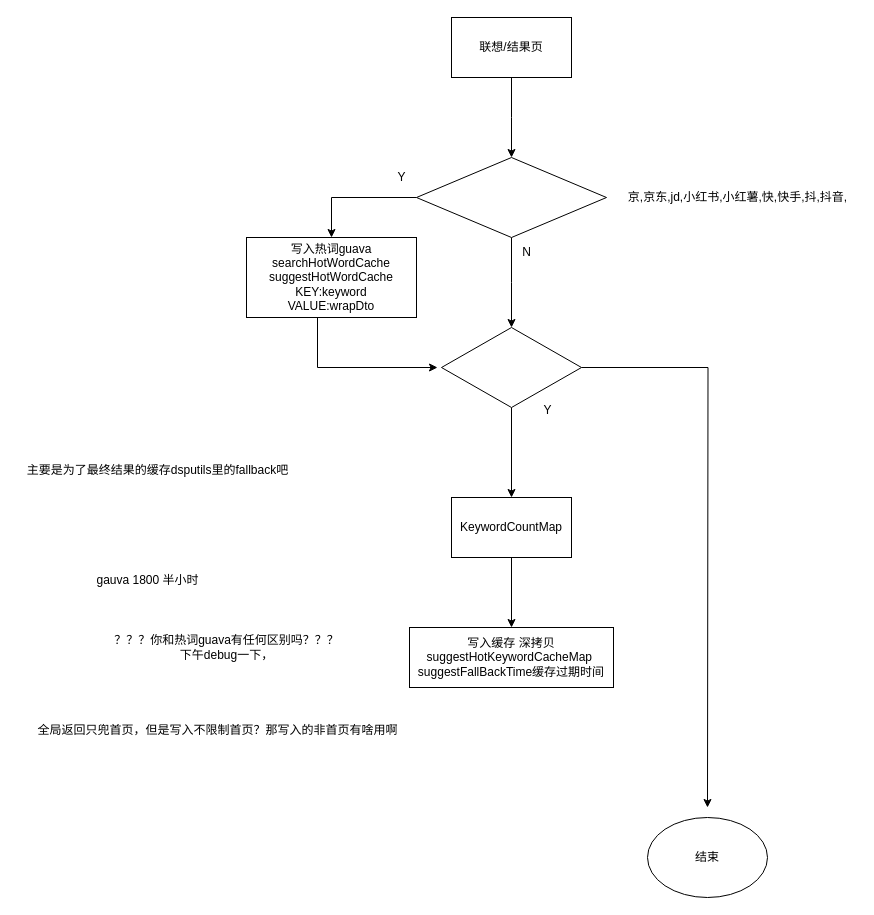
The diagram is 874 pixels wide and 915 high, and some of its shapes have lost their labels. The box of each missing label's shape, as (x1, y1, x2, y2) in pixels:
是热词吗？ CONF 热词列表： special_hotword_list: (416, 156, 606, 238)
首页&非刷量&开关: (440, 326, 582, 408)
